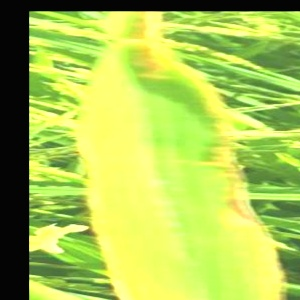Leaf_Blast: (82, 21, 251, 300)
